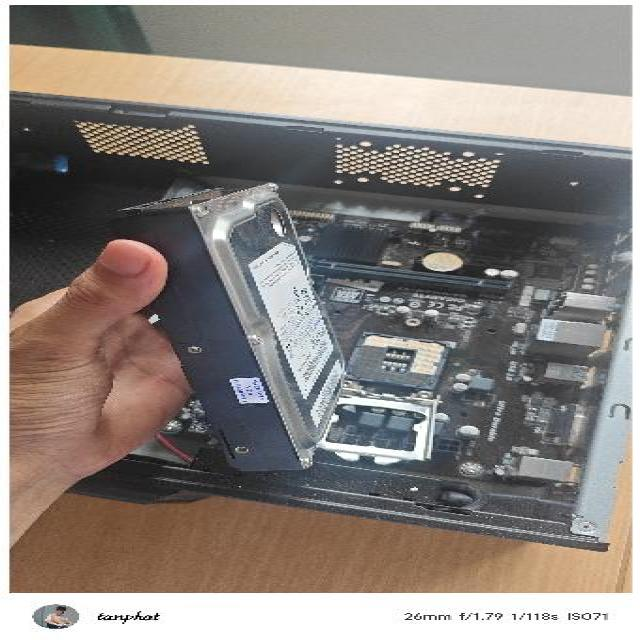DISK: (104, 179, 356, 472)
